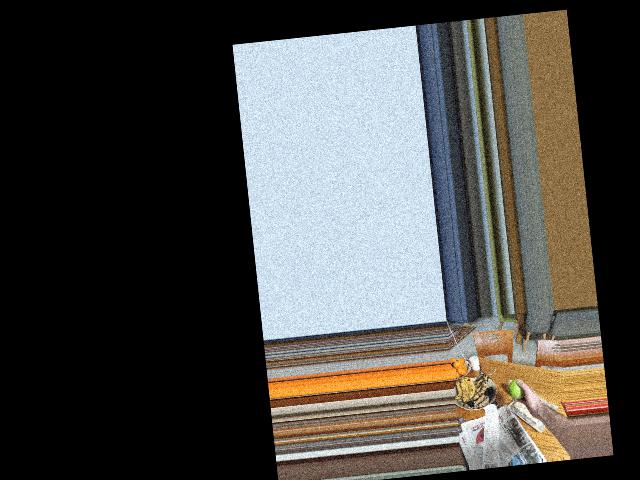apple: (507, 377, 529, 402)
